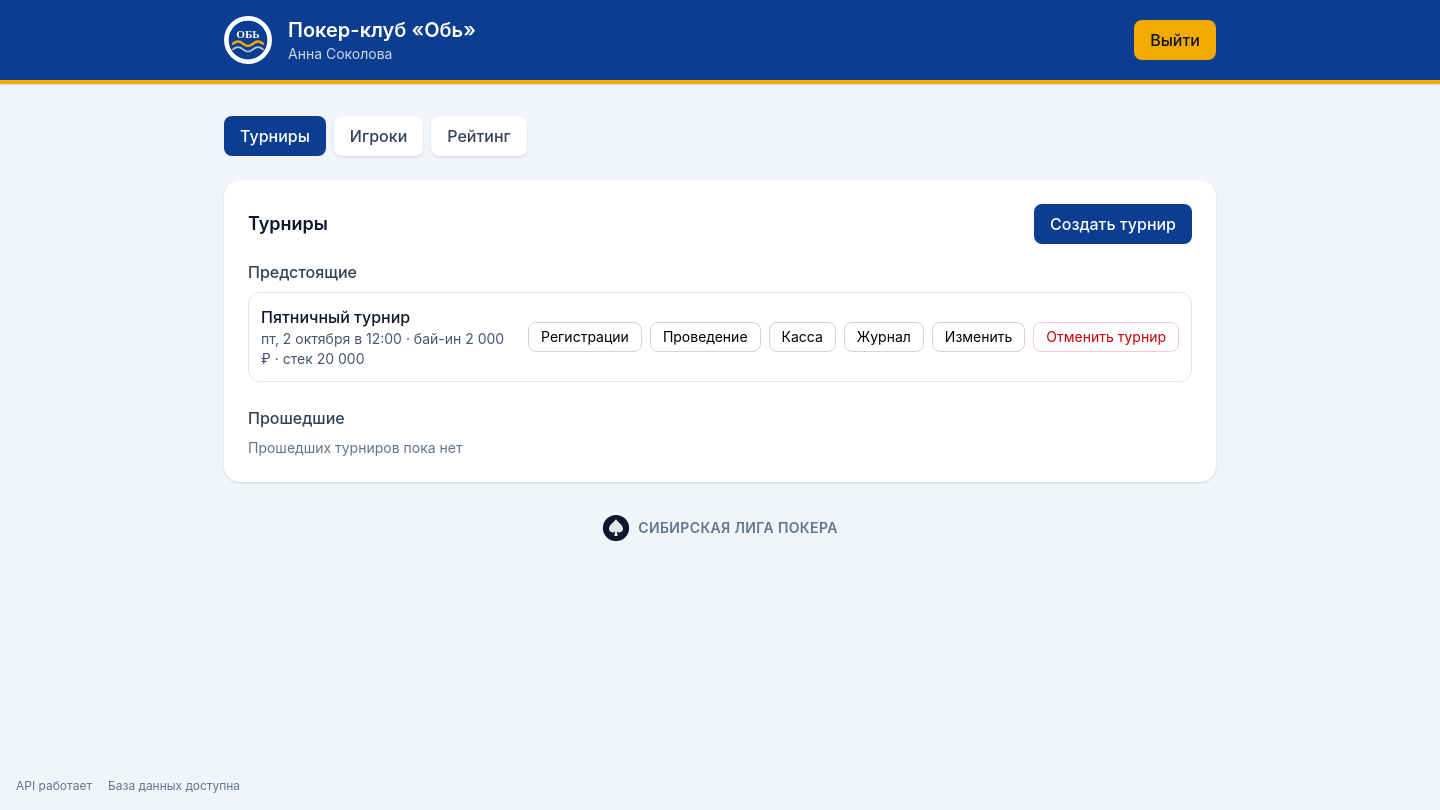
Scenario: tournament registrations › offers no closing of registration once the tournament has started
The image size is (1440, 810).
Click the button "Регистрации". click: point(585, 337)
box: [528,322,642,352]
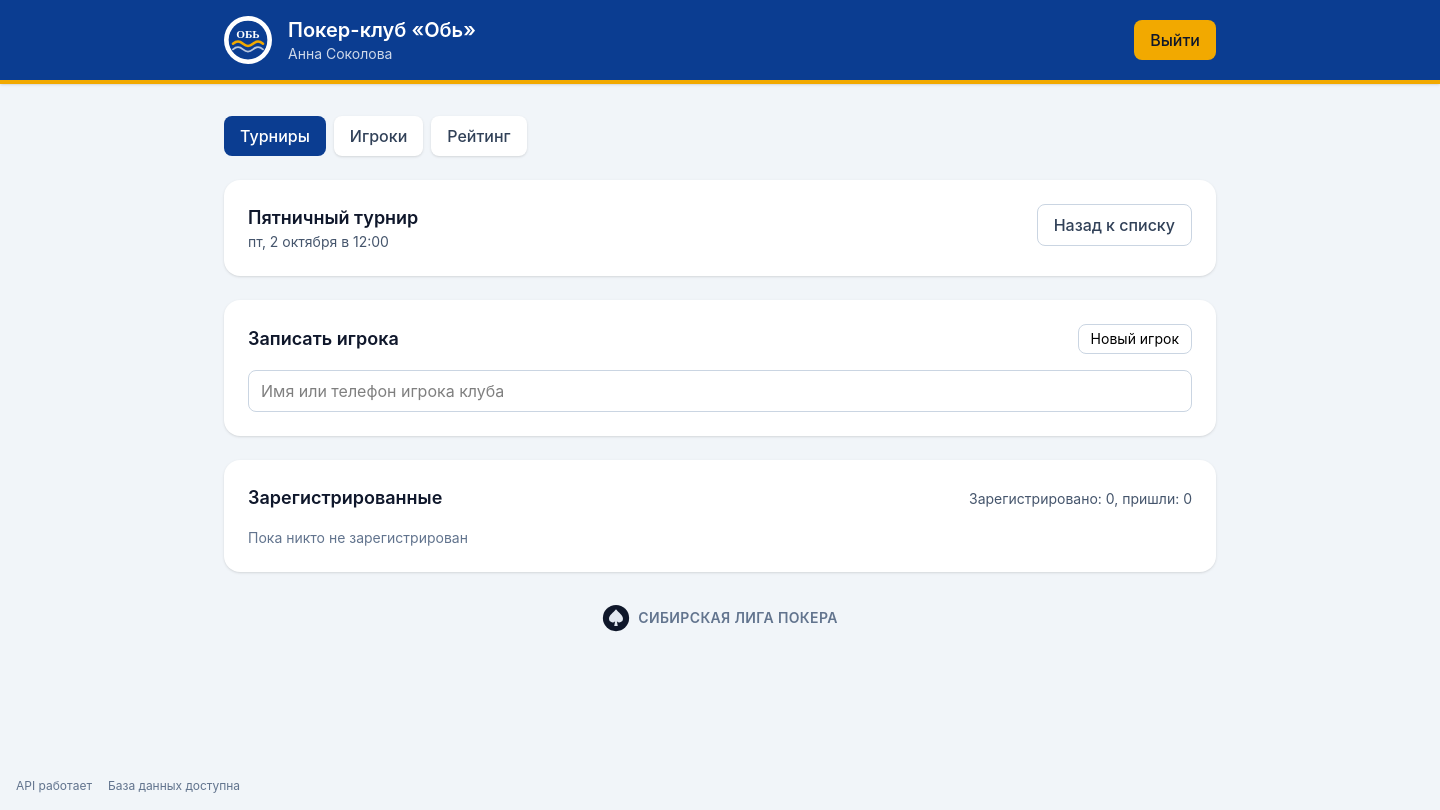
Result: the heading "Пятничный турнир" is shown at [248,204,418,232]
Result: the text "Пока никто не зарегистрирован" is shown at [248,529,468,546]
